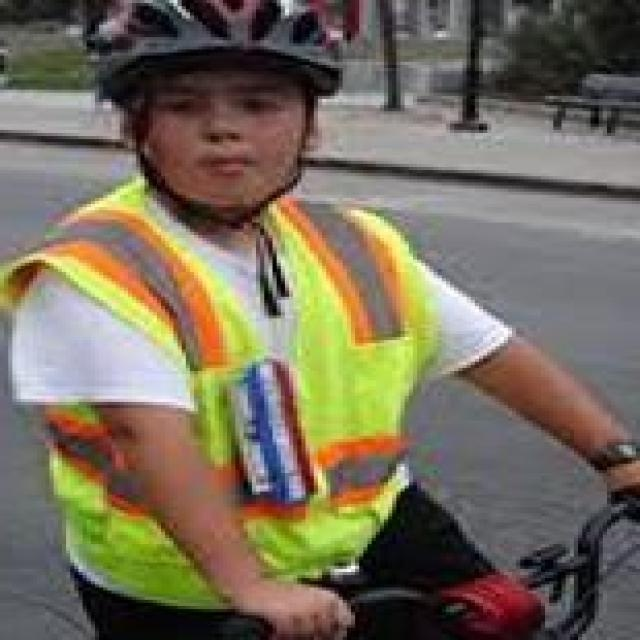Con_Chaleco: (58, 191, 408, 599)
